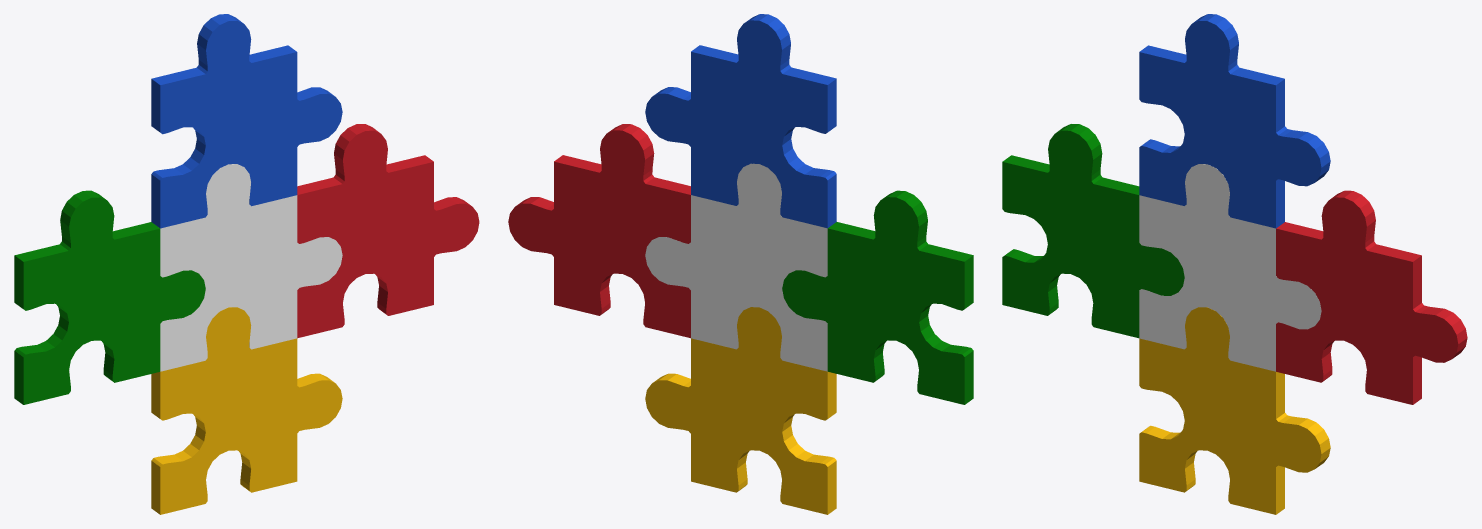
The picture shows the model from 3 angles, left to right: view 1: azimuth 30°, elevation 25°; view 2: azimuth 150°, elevation 25°; view 3: azimuth 330°, elevation 25°; orthographic projection.
Parts seen in each view (by area): view 1: Puzzle Piece 2, Puzzle Piece 4, Puzzle Piece 5, Puzzle Piece 3, Puzzle Piece 1; view 2: Puzzle Piece 2, Puzzle Piece 4, Puzzle Piece 5, Puzzle Piece 3, Puzzle Piece 1; view 3: Puzzle Piece 3, Puzzle Piece 4, Puzzle Piece 2, Puzzle Piece 5, Puzzle Piece 1.
Boxes of the visible parts, x1,y1,x2,y2 form: Puzzle Piece 2: (14, 190, 205, 404); Puzzle Piece 4: (151, 14, 342, 228); Puzzle Piece 5: (151, 307, 342, 514); Puzzle Piece 3: (297, 124, 479, 338); Puzzle Piece 1: (160, 164, 342, 371); Puzzle Piece 2: (782, 190, 973, 404); Puzzle Piece 4: (645, 14, 836, 228); Puzzle Piece 5: (645, 307, 836, 514); Puzzle Piece 3: (508, 124, 690, 338); Puzzle Piece 1: (645, 163, 827, 371); Puzzle Piece 3: (1276, 190, 1467, 404); Puzzle Piece 4: (1139, 14, 1330, 228); Puzzle Piece 2: (1002, 124, 1184, 338); Puzzle Piece 5: (1139, 307, 1330, 514); Puzzle Piece 1: (1139, 164, 1321, 371).
Bounding box in the file's own units: 5 × 5 × 0.1713.
